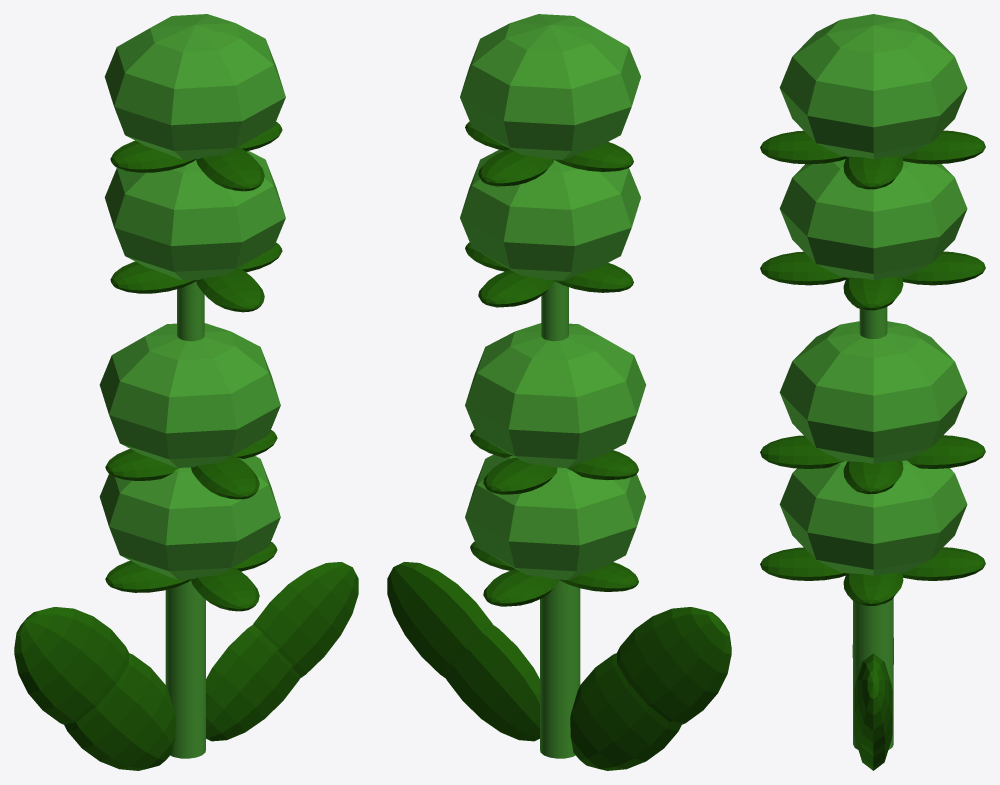
The model's file is kush4.fbx.
The picture shows the model from 3 angles, left to right: view 1: azimuth 30°, elevation 25°; view 2: azimuth 150°, elevation 25°; view 3: azimuth 270°, elevation 25°; orthographic projection.
Visible parts, largest first — view 1: Kush3, Kush1, Kush2, Kush, LeafBase4, LeafBase2, LeafBase3, LeafBase1, Stalk, Stalk_Leaf9, Stalk_Leaf13, Stalk_Leaf4 (+6 smaller); view 2: Kush3, Kush1, Kush2, Kush, LeafBase4, LeafBase2, LeafBase3, LeafBase1, Stalk, Stalk_Leaf3, Stalk_Leaf12, Stalk_Leaf15 (+6 smaller); view 3: Kush3, Kush1, Kush2, Kush, LeafBase3, Stalk, Stalk_Leaf4, Stalk_Leaf13, Stalk_Leaf9, Stalk_Leaf15, Stalk_Leaf12, Stalk_Leaf3 (+8 smaller).
Part boxes in pixels (bbox=[...]): Kush3: bbox=[104, 14, 285, 159]; Kush1: bbox=[99, 323, 280, 467]; Kush2: bbox=[104, 151, 285, 280]; Kush: bbox=[99, 456, 280, 579]; LeafBase4: bbox=[14, 607, 129, 724]; LeafBase2: bbox=[64, 653, 175, 770]; LeafBase3: bbox=[253, 562, 358, 677]; LeafBase1: bbox=[206, 624, 300, 741]; Stalk: bbox=[165, 580, 205, 758]; Stalk_Leaf9: bbox=[196, 268, 264, 312]; Stalk_Leaf13: bbox=[196, 147, 264, 191]; Stalk_Leaf4: bbox=[191, 567, 259, 611]; Kush3: bbox=[460, 14, 640, 159]; Kush1: bbox=[465, 323, 645, 467]; Kush2: bbox=[460, 149, 640, 280]; Kush: bbox=[465, 454, 645, 579]; LeafBase4: bbox=[616, 607, 731, 724]; LeafBase2: bbox=[570, 653, 681, 770]; LeafBase3: bbox=[387, 562, 492, 677]; LeafBase1: bbox=[445, 624, 539, 741]; Stalk: bbox=[540, 580, 580, 758]; Stalk_Leaf3: bbox=[483, 569, 558, 606]; Stalk_Leaf12: bbox=[478, 270, 553, 307]; Stalk_Leaf15: bbox=[478, 149, 553, 186]; Kush3: bbox=[779, 14, 967, 158]; Kush1: bbox=[779, 321, 967, 463]; Kush2: bbox=[779, 159, 967, 279]; Kush: bbox=[779, 460, 967, 575]; LeafBase3: bbox=[854, 653, 892, 756]; Stalk: bbox=[853, 598, 893, 749]; Stalk_Leaf4: bbox=[760, 547, 846, 580]; Stalk_Leaf13: bbox=[760, 130, 846, 164]; Stalk_Leaf9: bbox=[760, 251, 846, 285]; Stalk_Leaf15: bbox=[902, 130, 985, 164]; Stalk_Leaf12: bbox=[902, 251, 985, 285]; Stalk_Leaf3: bbox=[902, 547, 985, 580].
Size of the model in its own units: 6.83 by 13.9 by 3.88.
